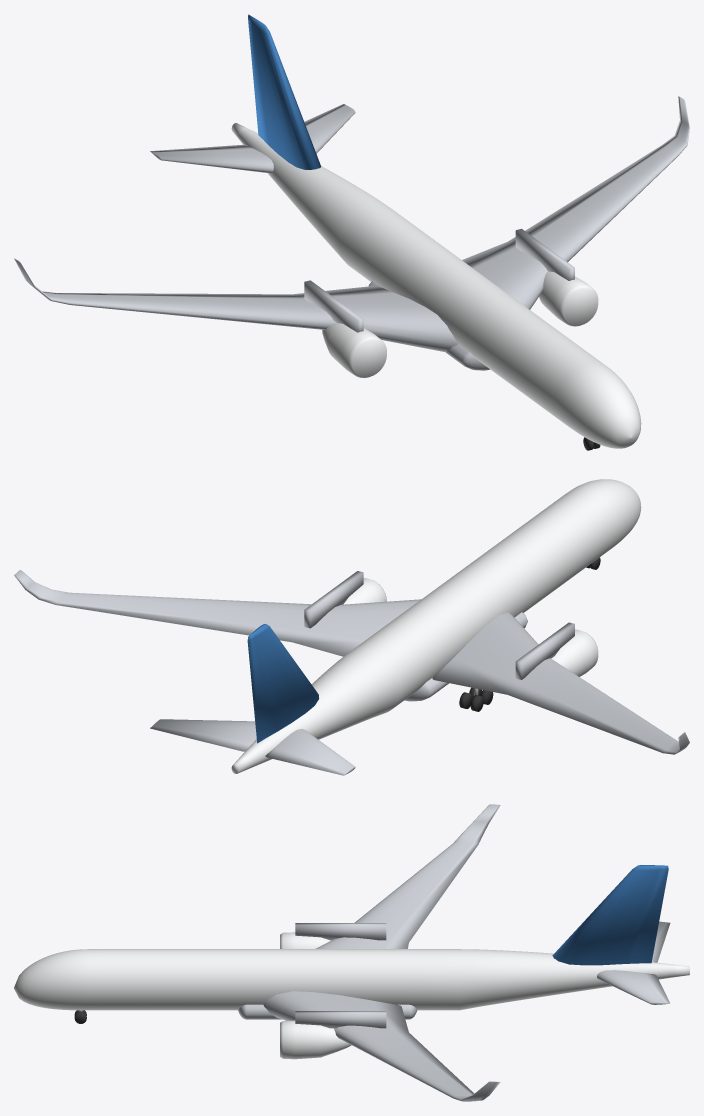
3 renders of one model, top to bottom at view 1: azimuth 30°, elevation 25°; view 2: azimuth 150°, elevation 25°; view 3: azimuth 270°, elevation 25°, orthographic. The views are drawn at different scales.
Parts seen in each view (by area): view 1: Fuselage, Wings, Fin, Nacelles, HStab, Pylons; view 2: Fuselage, Wings, Fin, HStab, Pylons, Nacelles, Tires, Fairing; view 3: Fuselage, Wings, Fin, Pylons, Nacelles, HStab, Fairing.
Part boxes in pixels (x1,y1,x2,y2): Fuselage: [231, 123, 641, 448]; Wings: [14, 96, 689, 352]; Fin: [248, 14, 321, 169]; Nacelles: [322, 271, 598, 377]; HStab: [150, 104, 355, 173]; Pylons: [304, 228, 574, 332]; Fuselage: [231, 479, 641, 773]; Wings: [14, 570, 689, 754]; Fin: [247, 624, 319, 743]; HStab: [150, 719, 355, 775]; Pylons: [304, 571, 574, 679]; Nacelles: [343, 578, 598, 676]; Tires: [459, 557, 600, 711]; Fairing: [404, 612, 527, 701]; Fuselage: [14, 949, 689, 1010]; Wings: [263, 804, 500, 1101]; Fin: [552, 865, 668, 965]; Pylons: [295, 923, 386, 1028]; Nacelles: [280, 932, 351, 1059]; HStab: [597, 921, 670, 1004]; Fairing: [238, 1004, 417, 1019].
Bounding box in the file's own units: 64.75 × 17.05 × 66.8.
